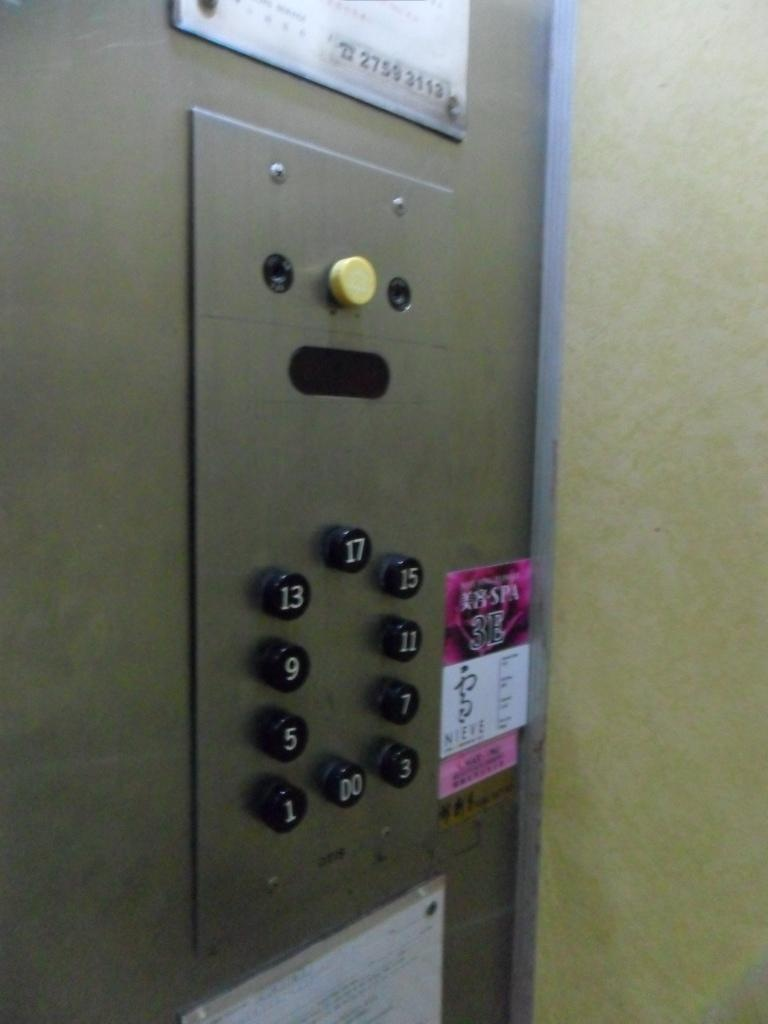1: (255, 775, 314, 835)
11: (378, 615, 427, 667)
13: (250, 559, 315, 625)
15: (376, 549, 425, 601)
17: (319, 522, 376, 579)
3: (374, 738, 423, 790)
5: (251, 706, 310, 766)
7: (372, 674, 421, 726)
9: (252, 636, 311, 696)
DO: (321, 758, 370, 811)
blur: (322, 255, 380, 314)
